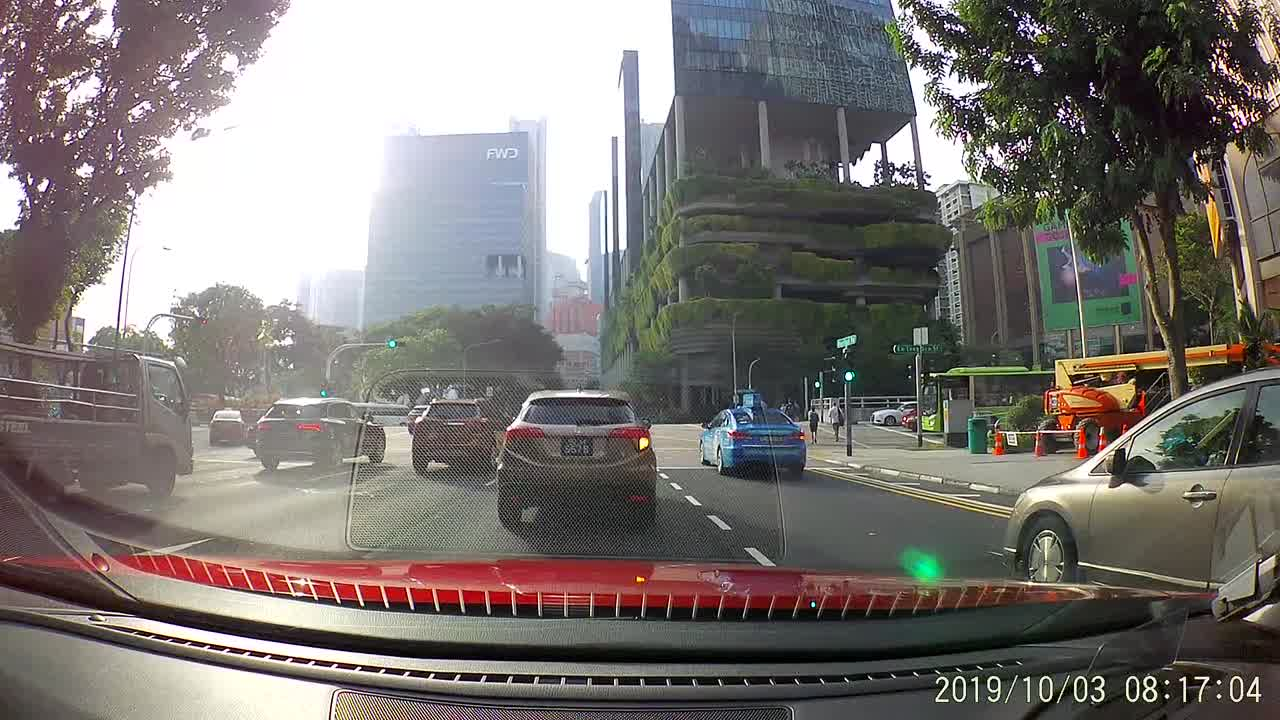bus: (918, 369, 1061, 441)
car: (1001, 359, 1278, 586), (497, 385, 657, 530), (256, 398, 384, 475), (699, 390, 808, 480), (412, 401, 504, 474), (206, 401, 247, 448), (869, 399, 918, 430)
